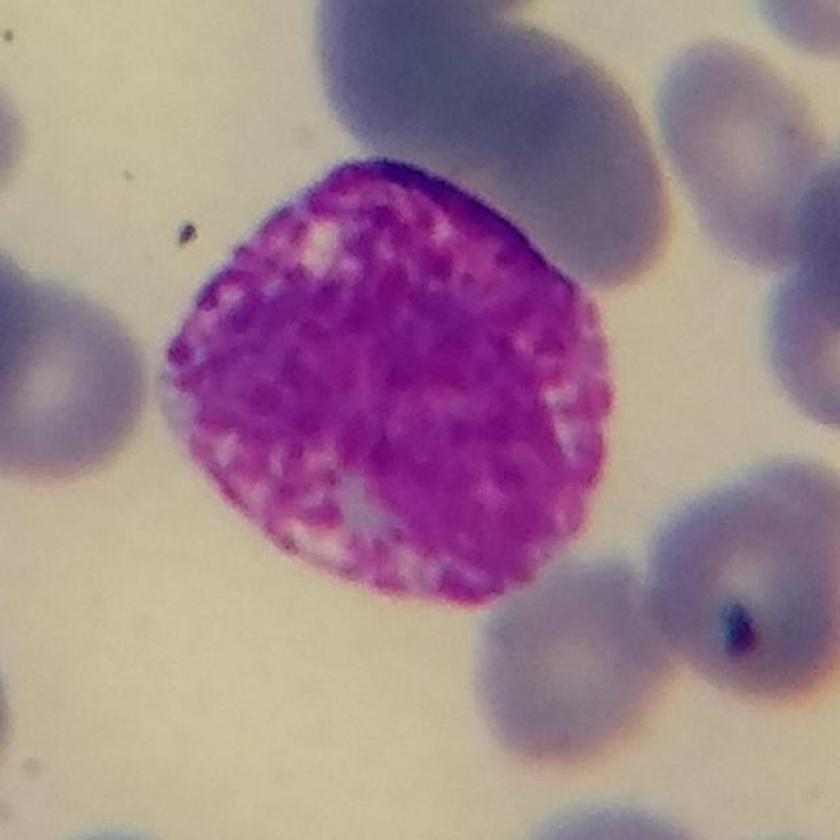basophil: (147, 135, 623, 614)
